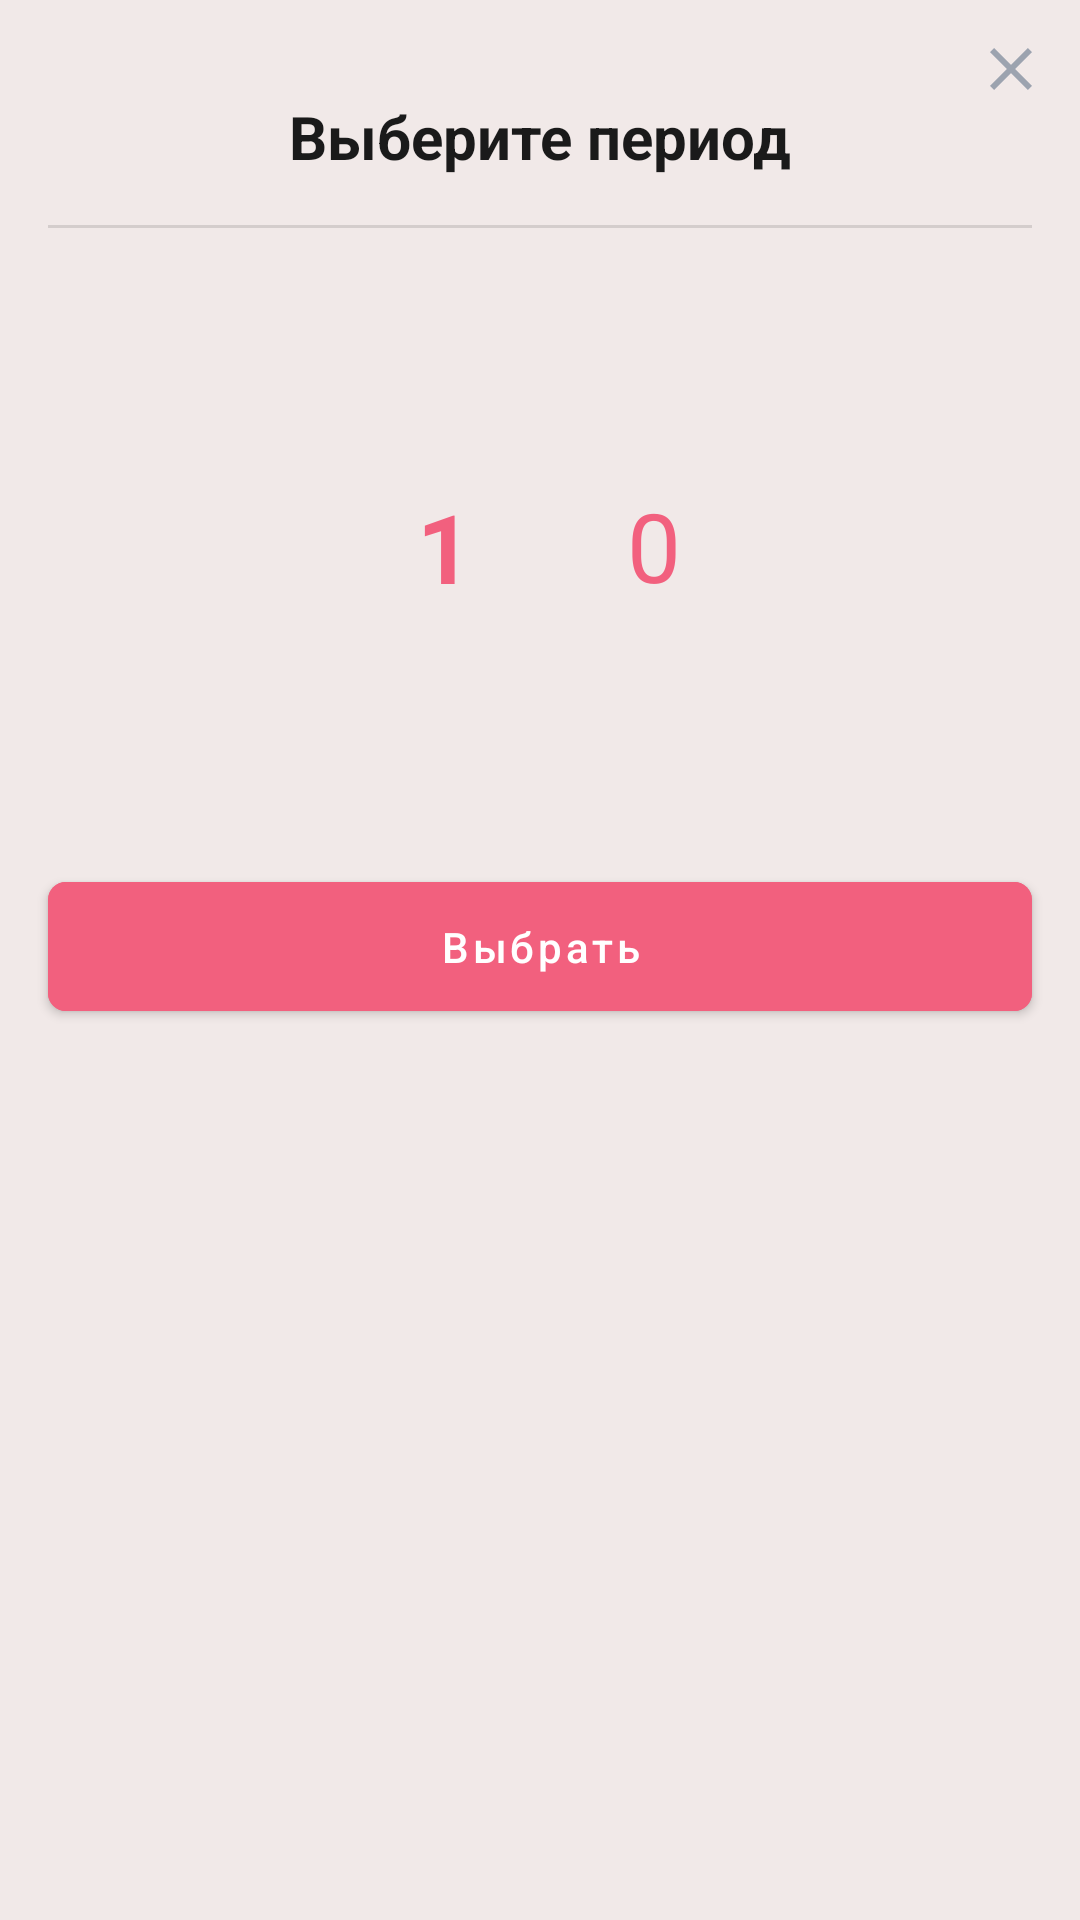

Named icons in this screenshot (1080px x 1920px) and their centers, [x,y]:
close: [1011,69]
